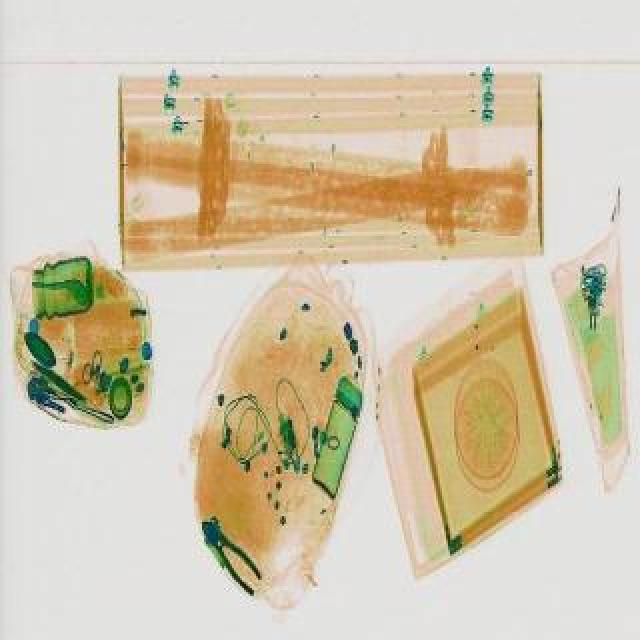wrench: (192, 512, 268, 596)
